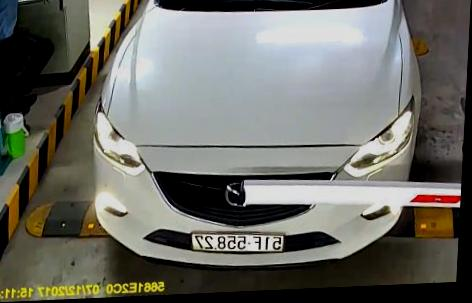License_Plate: (185, 224, 285, 257)
